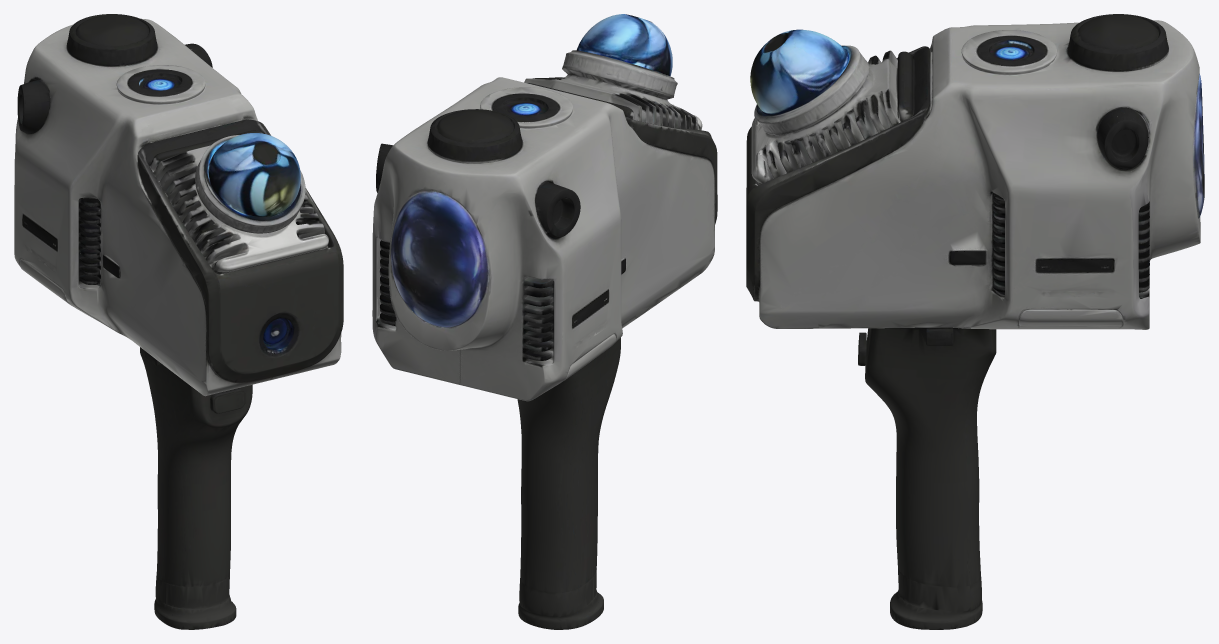
Rendered from scanner_hunyuan-mobile.glb.
The picture shows the model from 3 angles, left to right: view 1: azimuth 30°, elevation 25°; view 2: azimuth 150°, elevation 25°; view 3: azimuth 270°, elevation 25°; orthographic projection. The views are drawn at different scales.
Parts seen in each view (by area): view 1: node_0; view 2: node_0; view 3: node_0.
Part boxes in pixels (bbox=[...]): node_0: bbox=[14, 14, 343, 629]; node_0: bbox=[372, 14, 717, 629]; node_0: bbox=[746, 14, 1204, 629].
Bounding box in the file's own units: 0.3962 × 1.06 × 0.7503.
1 material, 1 textured.
